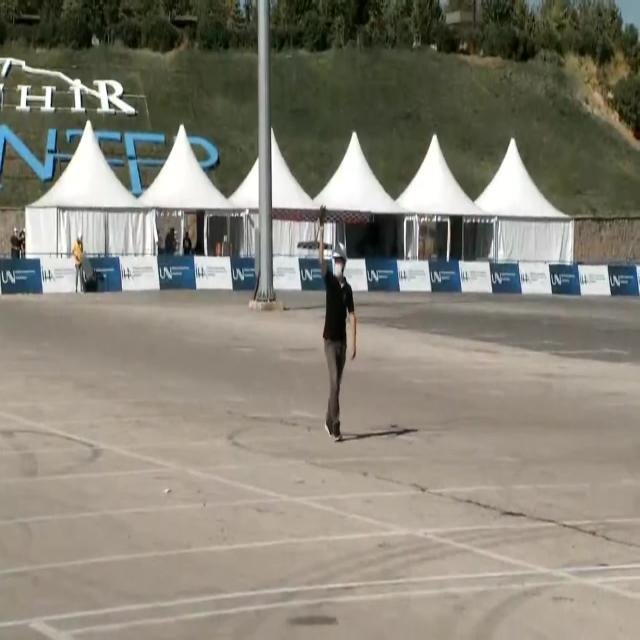iha: (302, 203, 343, 250)
